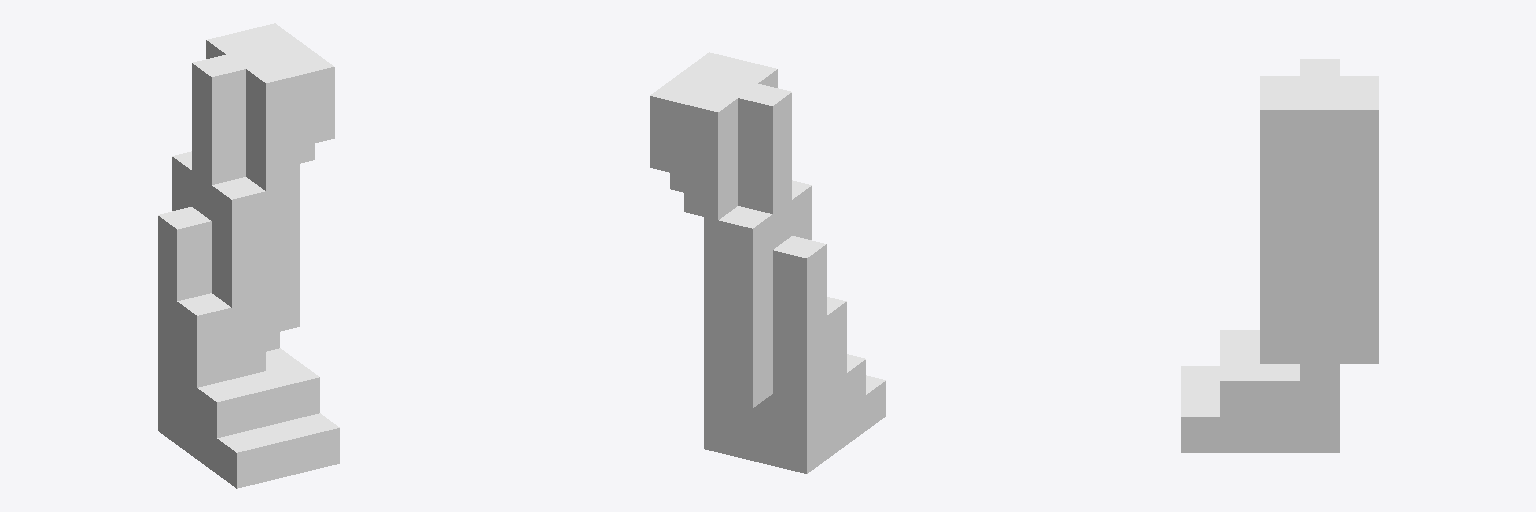
Rendered from Leg-R.obj.
3 views of the same model, side by side, from view 1: azimuth 30°, elevation 25°; view 2: azimuth 150°, elevation 25°; view 3: azimuth 270°, elevation 25° (orthographic).
Visible parts, largest first — view 1: object 1; view 2: object 1; view 3: object 1.
Part boxes in pixels (x1,y1,x2,y2): object 1: (158,23,339,488); object 1: (650,52,885,473); object 1: (1181,59,1378,452).
Bounding box in the file's own units: 0.4 × 1 × 0.5.